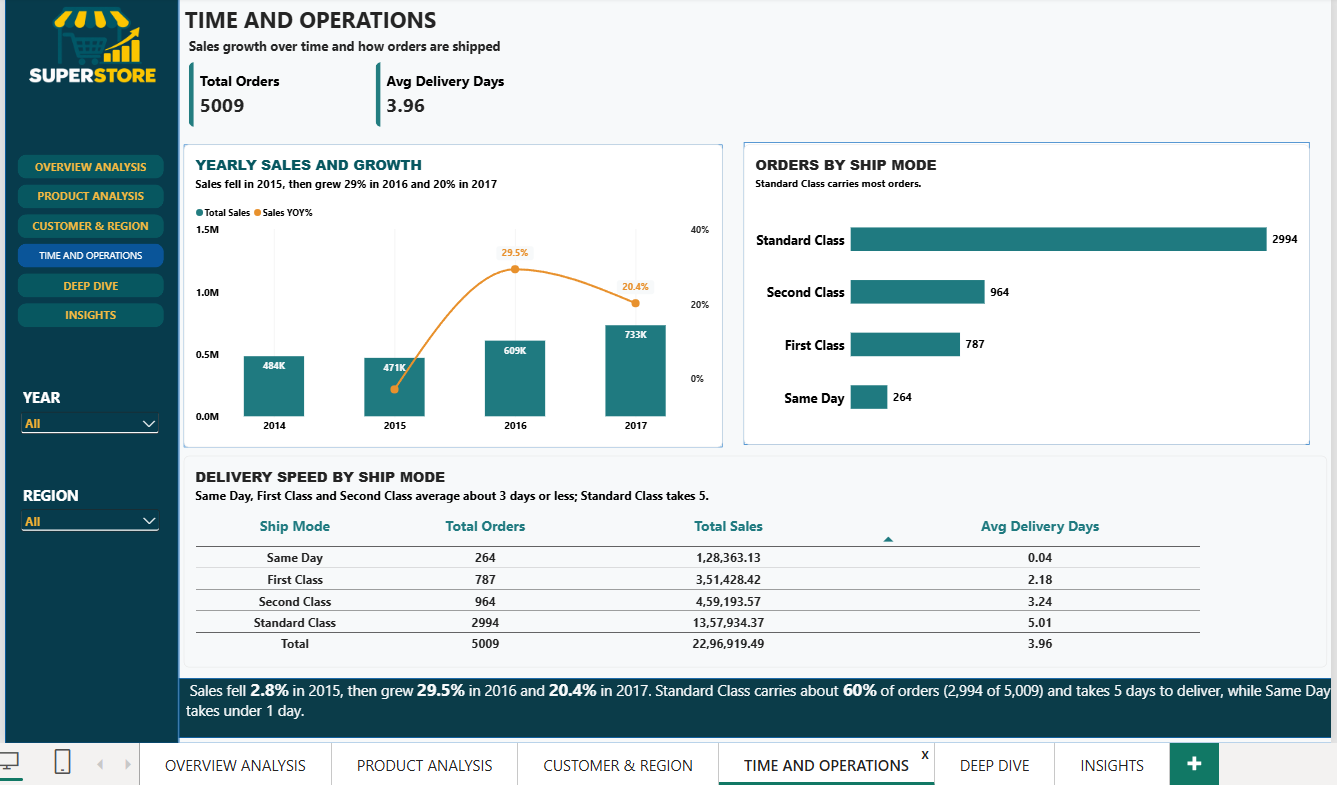

The page's visual inventory and layout, read from the dashboard file:
{"tool":"powerbi","page":{"name":"TIME AND  OPERATIONS","canvas":[1920,1080],"ordinal":3},"visuals":[{"type":"shape","box":[0,0,251.1,1080.6],"z":0},{"type":"shape","box":[251.1,0,1669.3,1080.6],"z":1000},{"type":"textbox","box":[251.1,10.3,387,47.3],"z":2000},{"type":"textbox","box":[265.5,57.6,471.4,37],"z":3000},{"type":"shape","box":[259.3,214.1,780.1,438.4],"z":4000},{"type":"lineStackedColumnComboChart","title":"YEARLY SALES AND GROWTH","fields":{"Category":["Calender.year"],"Y":["_MEASURES.Total Sales"],"Y2":["_MEASURES.Sales YOY%"]},"box":[259.3,214.1,780.1,438.4],"z":5000},{"type":"cardVisual","fields":{"Data":["_MEASURES.Total Orders","_MEASURES.Avg delivery days"]},"box":[265.5,94.7,533.1,94.7],"z":6000},{"type":"shape","box":[1070.3,209.9,819.2,438.4],"z":7000},{"type":"clusteredBarChart","title":"ORDERS BY SHIP MODE","fields":{"Category":["superstore.Ship Mode"],"Y":["_MEASURES.Total Orders"]},"box":[1070.3,214.1,819.2,434.3],"z":8000},{"type":"tableEx","title":"DELIVERY SPEED BY SHIP MODE","fields":{"Values":["superstore.Ship Mode","_MEASURES.Total Orders","_MEASURES.Total Sales","_MEASURES.Avg delivery days"]},"box":[259.3,664.8,1654.9,306.7],"z":9000},{"type":"shape","box":[250.7,985.9,1669.3,86.4],"z":10000},{"type":"textbox","box":[251.1,985.9,1669.3,86.4],"z":11000},{"type":"slicer","fields":{"Values":["Calender.year"]},"box":[18.5,564,210,88],"z":11001},{"type":"slicer","fields":{"Values":["superstore.Region"]},"box":[18.5,706,210.3,79.1],"z":11002},{"type":"pageNavigator","box":[18.5,228.5,212.3,252.8],"z":11003},{"type":"image","box":[0,0,251.1,140],"z":11004}]}

Visuals, with their boxes on the page's 1920x1080 design canvas (x1, y1, x2, y2). These are canvas units, not pixel positions in the 1337x785 screenshot, which may show the page scaled, cropped or inside an application window:
shape: (x1=0, y1=0, x2=251, y2=1081)
shape: (x1=251, y1=0, x2=1920, y2=1081)
textbox: (x1=251, y1=10, x2=638, y2=58)
textbox: (x1=266, y1=58, x2=737, y2=95)
shape: (x1=259, y1=214, x2=1039, y2=652)
"YEARLY SALES AND GROWTH" lineStackedColumnComboChart: (x1=259, y1=214, x2=1039, y2=652)
cardVisual - _MEASURES.Total Orders x _MEASURES.Avg delivery days: (x1=266, y1=95, x2=799, y2=189)
shape: (x1=1070, y1=210, x2=1890, y2=648)
"ORDERS BY SHIP MODE" clusteredBarChart: (x1=1070, y1=214, x2=1890, y2=648)
"DELIVERY SPEED BY SHIP MODE" tableEx: (x1=259, y1=665, x2=1914, y2=972)
shape: (x1=251, y1=986, x2=1920, y2=1072)
textbox: (x1=251, y1=986, x2=1920, y2=1072)
slicer - Calender.year: (x1=18, y1=564, x2=228, y2=652)
slicer - superstore.Region: (x1=18, y1=706, x2=229, y2=785)
pageNavigator: (x1=18, y1=228, x2=231, y2=481)
image: (x1=0, y1=0, x2=251, y2=140)
